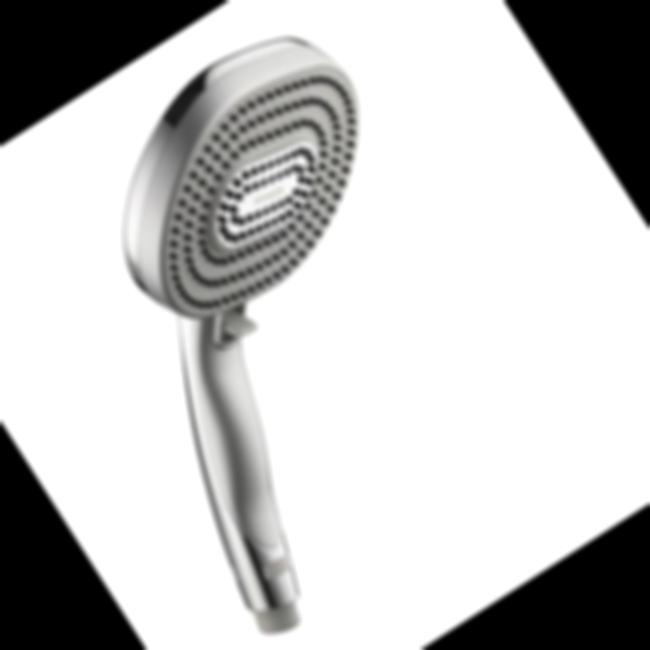Ducha: (0, 8, 599, 650)
